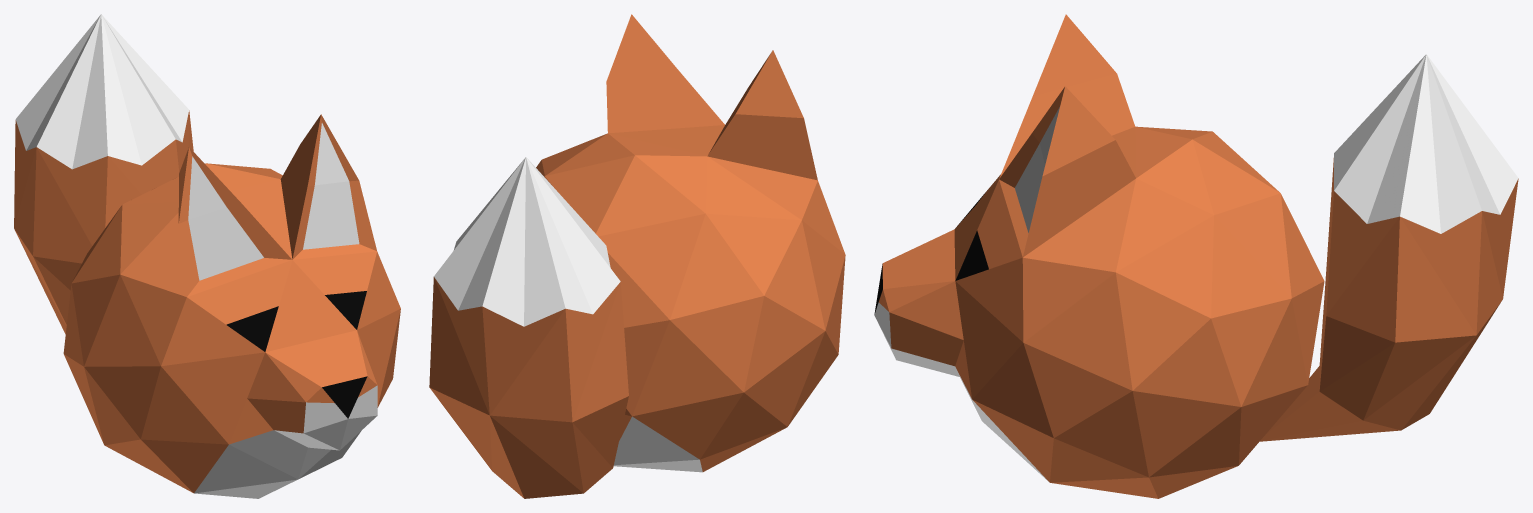
File: Fox.glb
3 renders of one model, left to right at view 1: azimuth 30°, elevation 25°; view 2: azimuth 150°, elevation 25°; view 3: azimuth 270°, elevation 25°, orthographic. The views are drawn at different scales.
Parts seen in each view (by area): view 1: Fox; view 2: Fox; view 3: Fox.
Part boxes in pixels (bbox=[...]): Fox: bbox=[14, 14, 400, 498]; Fox: bbox=[429, 14, 845, 498]; Fox: bbox=[874, 14, 1518, 498].
Size of the model in its own units: 10.03 by 11.97 by 16.55.
